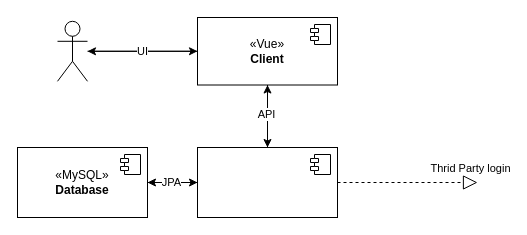
Some shapes in this 527 by 235 pixel diagram are drawn without their labels. Here are the shapes that lost their labels. From the top down, the box of each, then its label:
(56, 20, 88, 81): User
(196, 146, 338, 218): «Spring Boot » Server
